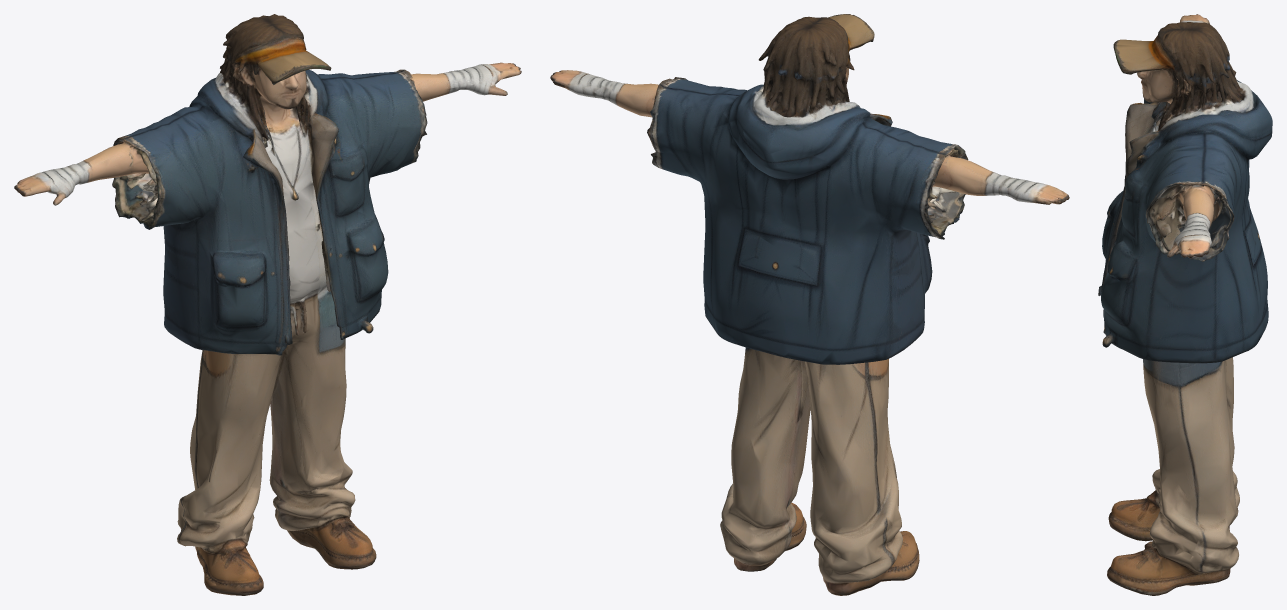
Rendered from heavy-dreads-v02.glb.
3 views of the same model, side by side, from view 1: azimuth 30°, elevation 25°; view 2: azimuth 150°, elevation 25°; view 3: azimuth 270°, elevation 25° (orthographic). The views are drawn at different scales.
Bounding box in the file's own units: 1.96 × 2 × 0.5956.
1 material, 1 textured.
